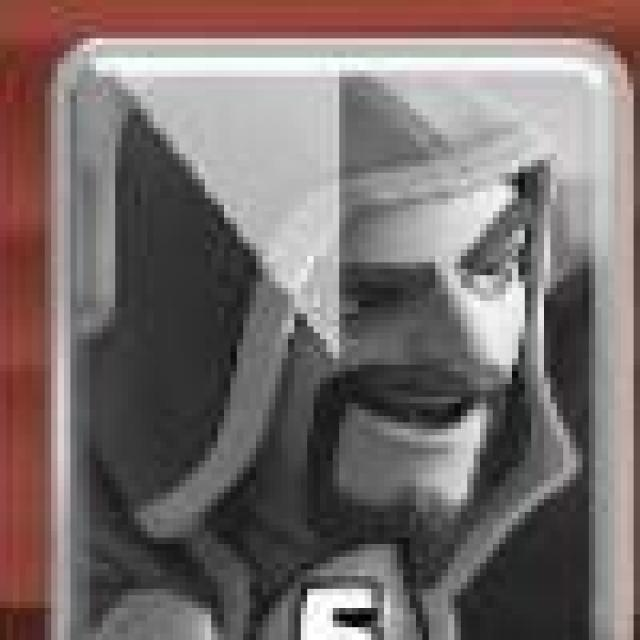Wizard: (48, 34, 635, 640)
